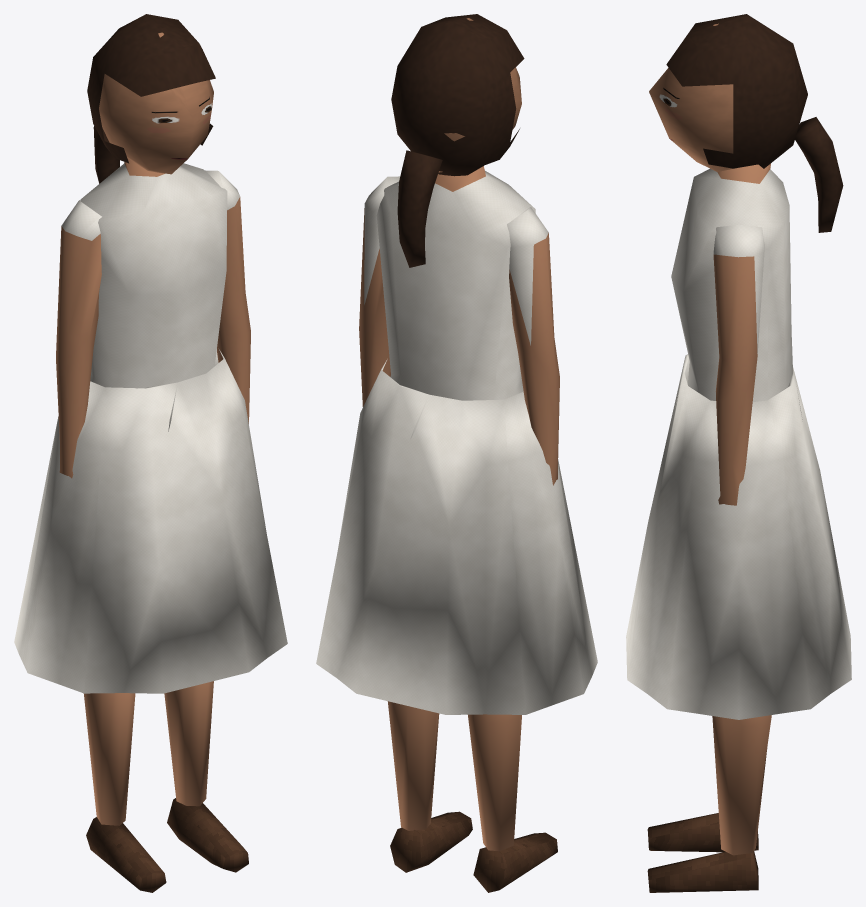
The model's file is persona_nina_c_lod.obj.
3 views of the same model, side by side, from view 1: azimuth 30°, elevation 25°; view 2: azimuth 150°, elevation 25°; view 3: azimuth 270°, elevation 25° (orthographic). The views are drawn at different scales.
Visible parts, largest first — view 1: Falda, Torso, BrazoDer, Pelo, PiernaDer, Cabeza, PiernaIzq, BrazoIzq; view 2: Falda, Torso, Pelo, BrazoDer, PiernaDer, PiernaIzq, BrazoIzq; view 3: Falda, Torso, Pelo, BrazoIzq, PiernaIzq, Cabeza, PiernaDer.
Part boxes in pixels (x1,y1,x2,y2): Falda: (14, 349, 287, 693); Torso: (80, 158, 227, 388); BrazoDer: (56, 200, 101, 478); Pelo: (87, 14, 215, 183); PiernaDer: (83, 693, 166, 892); Cabeza: (99, 32, 213, 174); PiernaIzq: (164, 681, 248, 872); BrazoIzq: (205, 170, 250, 423); Falda: (316, 359, 597, 714); Torso: (376, 166, 535, 400); Pelo: (391, 14, 524, 267); BrazoDer: (507, 207, 559, 485); PiernaDer: (468, 714, 557, 892); PiernaIzq: (387, 701, 472, 872); BrazoIzq: (359, 176, 400, 406); Falda: (626, 354, 851, 719); Torso: (671, 163, 792, 401); Pelo: (666, 14, 843, 232); BrazoIzq: (713, 224, 764, 505); PiernaIzq: (647, 715, 771, 892); Cabeza: (649, 23, 733, 171); PiernaDer: (647, 813, 758, 852).
Bounding box in the file's own units: 0.3569 × 1.15 × 0.2757.
Materials: 5 (5 with a texture image).
